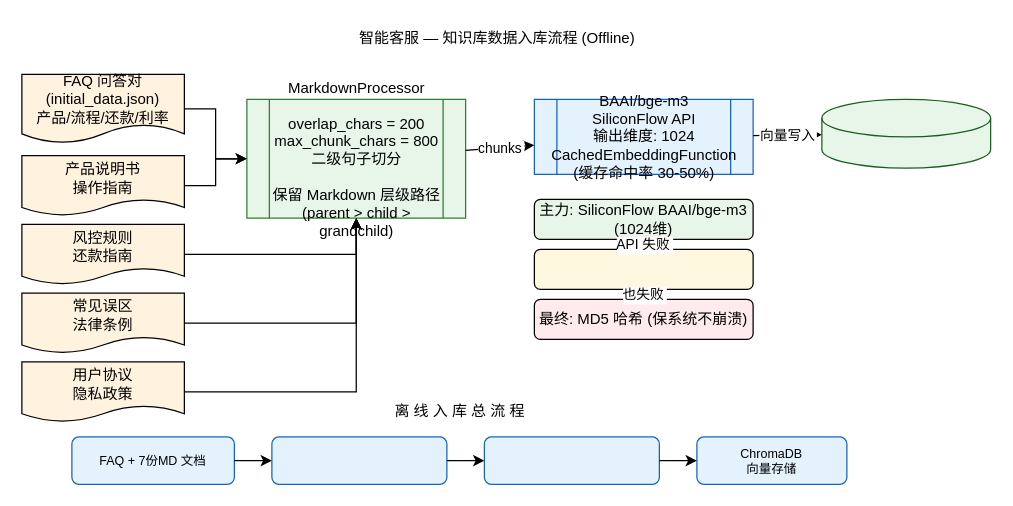
Image size: 1013x506. Some labels were removed from this diagram. The shapes that lost their labels are listed below. From the top down, each one's centre as x and y in pixels, then its label:
[906,133]: ChromaDB 向量数据库 HNSW 索引 本地持久化
[643,268]: 兜底: sentence-transformers 本地 (384->1024)
[359,460]: MarkdownProcessor Chunk 切割
[571,460]: BAAI/bge-m3 向量化 (1024维)
